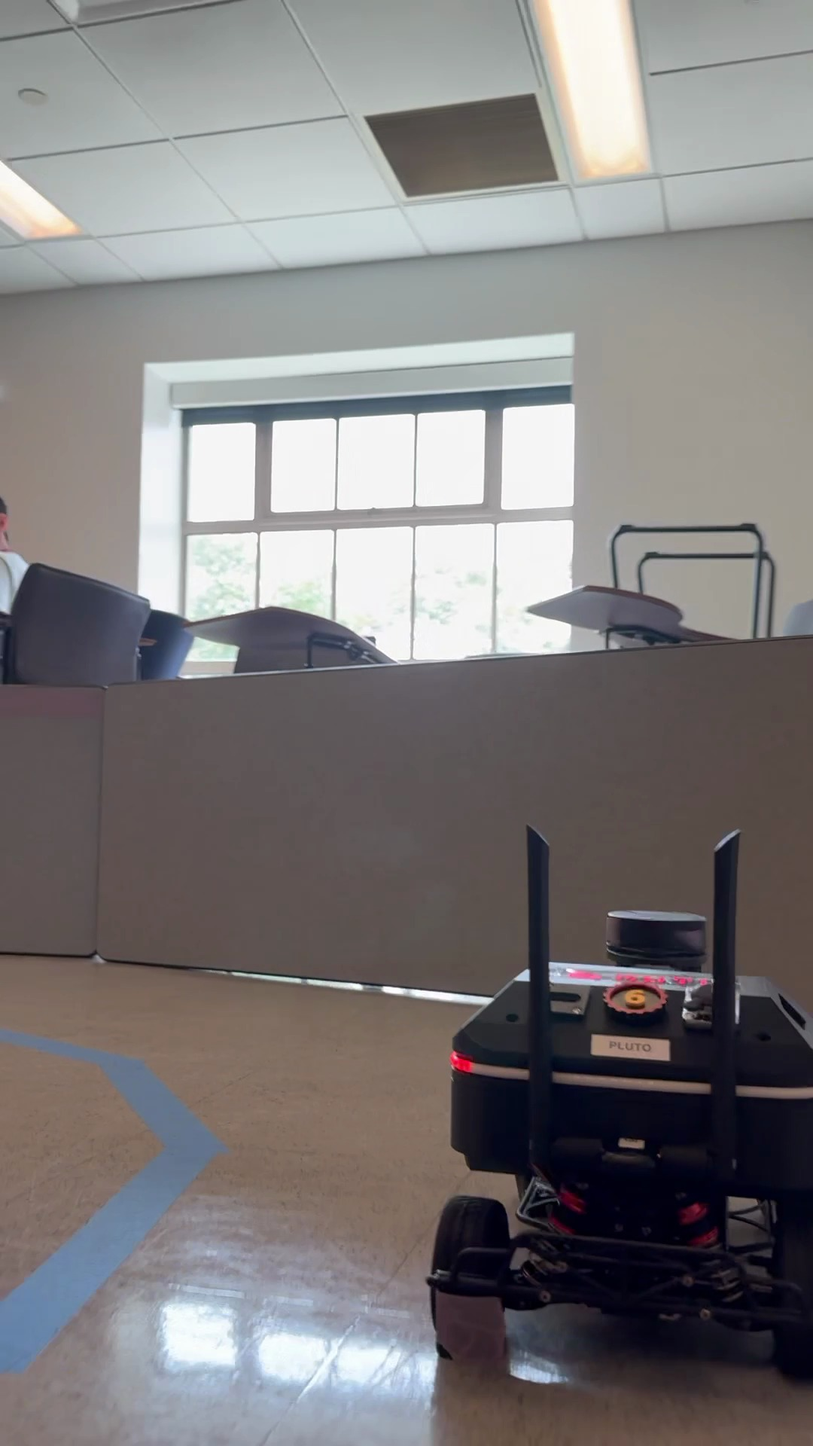racecar: (421, 820, 813, 1395)
